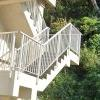stairs: (26, 50, 68, 79)
